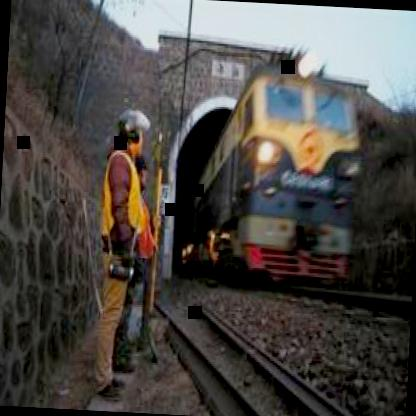helmet: (118, 105, 151, 150)
